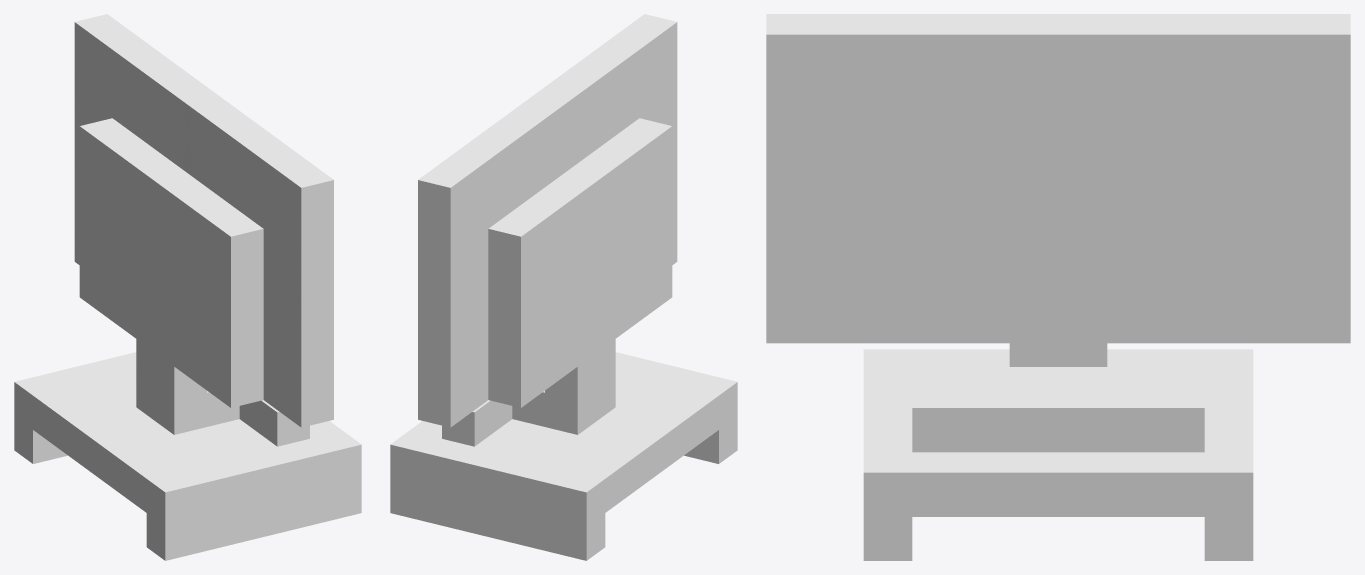
Rendered from Monitor2.gltf.
3 views of the same model, side by side, from view 1: azimuth 30°, elevation 25°; view 2: azimuth 150°, elevation 25°; view 3: azimuth 270°, elevation 25° (orthographic). The views are drawn at different scales.
Bounding box in the file's own units: 6 × 11 × 12.
1 material, 1 textured.
